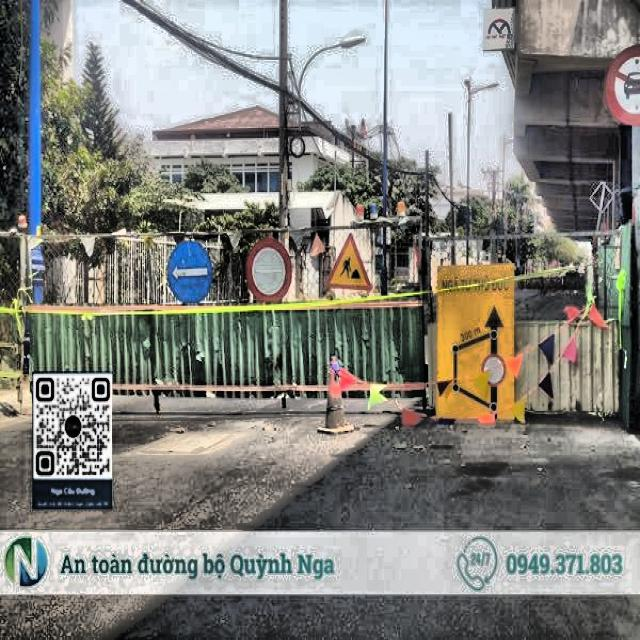Bien_bao_duong_cam: (245, 236, 294, 304)
